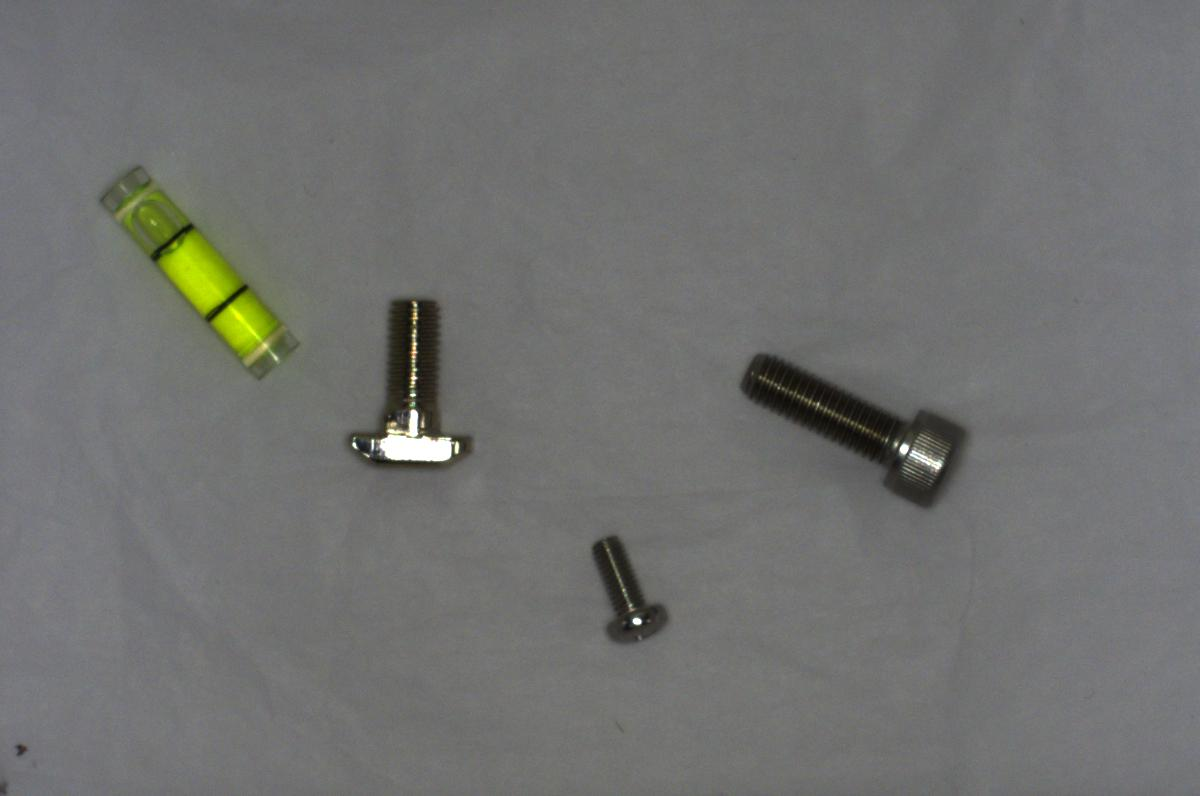Hexagon screw: (728, 345, 970, 510)
Horizontal bubble: (90, 161, 299, 379)
Round head screw: (585, 527, 671, 653)
T-shaped screw: (327, 292, 485, 478)
